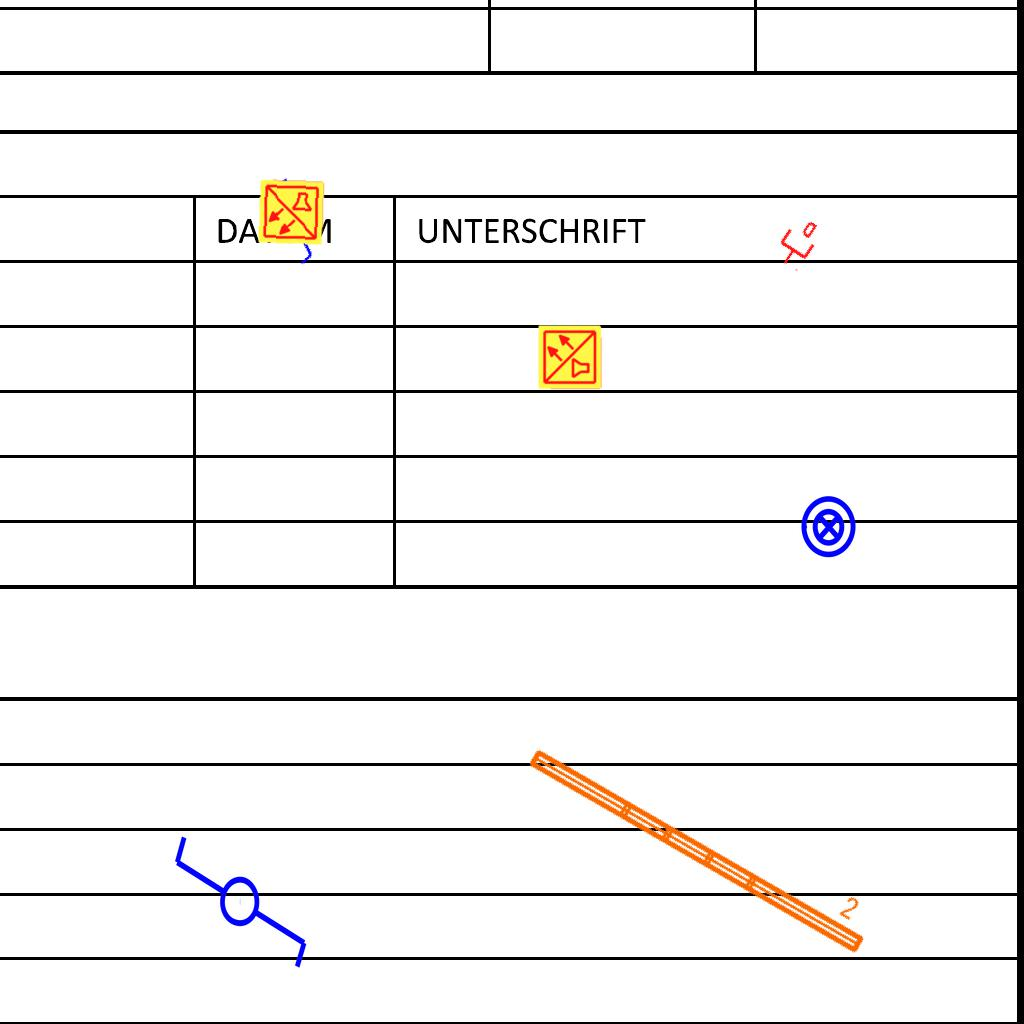Ambulanz_Pendelleuchte_LED: (520, 719, 885, 961)
Datenanschluss_einfach: (770, 212, 826, 274)
OKW_Multisensormelder_(Kombination_optischer_Rauch-Kahlenmonoxid_Waerme-Melder): (256, 177, 326, 247), (537, 324, 603, 390)
Taster_beleuchtet: (796, 494, 862, 560)
Wechselschalter: (170, 815, 314, 972), (246, 166, 348, 270)
